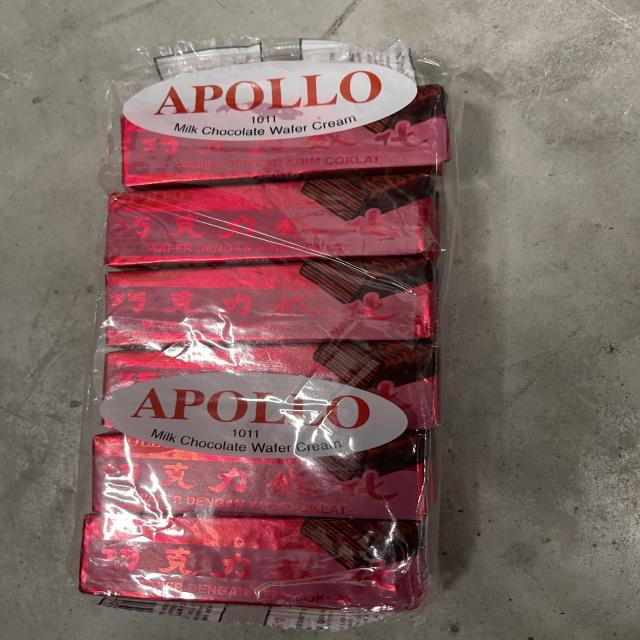object_name: (89, 46, 423, 605)
